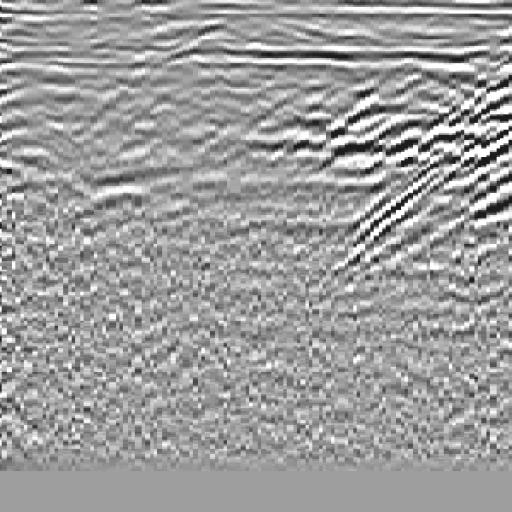metalic: (54, 44, 210, 273)
nonmetalic: (360, 41, 512, 286)
